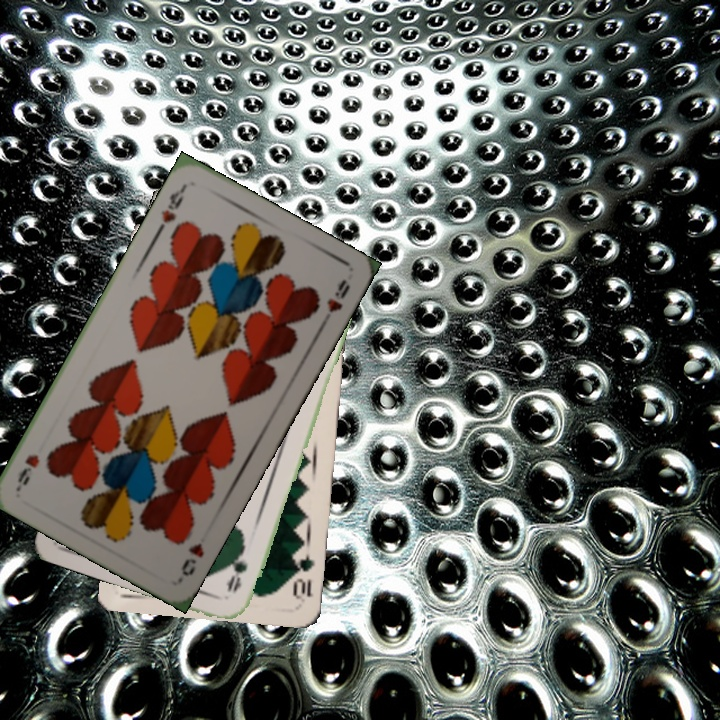G10: (289, 549, 317, 604)
GO: (223, 539, 250, 596)
H9: (156, 181, 189, 226), (176, 538, 207, 579)
